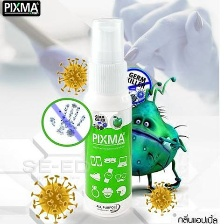cleaning_solution: (80, 14, 133, 220)
